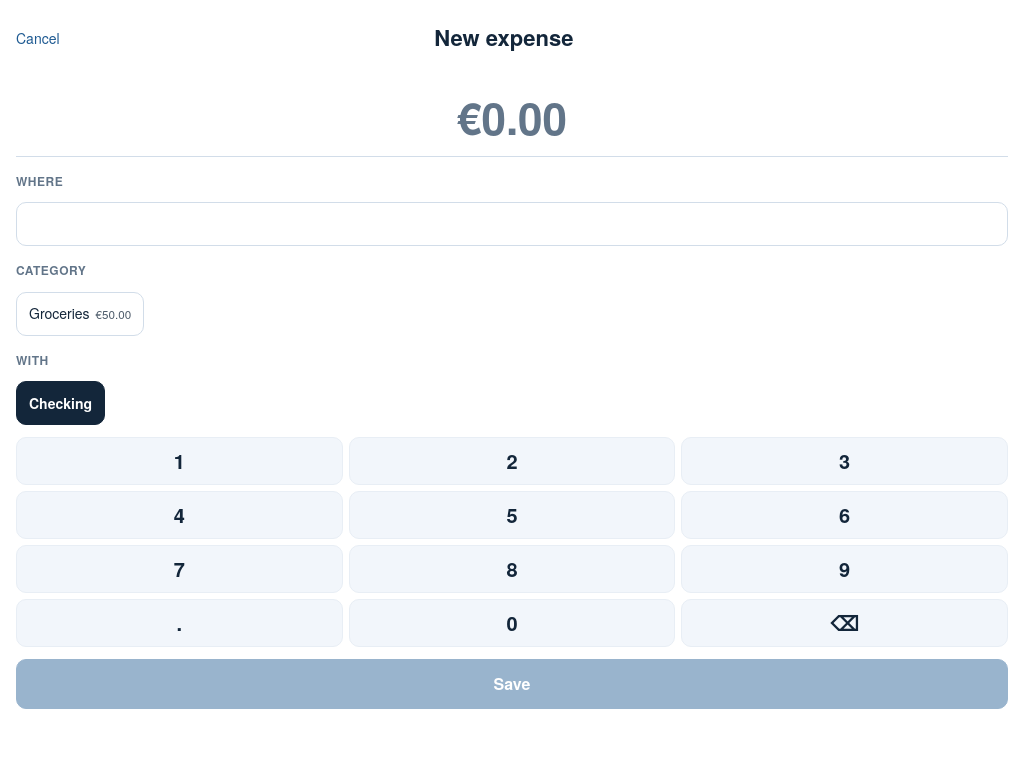
Test: QuickEntryOverlay (#367) › records an expense in three taps: amount, category, save
Check: the heading "New expense" is shown, box [434, 22, 573, 54]
Step 1. Click the button "1" → (179, 461), box [16, 437, 343, 485]
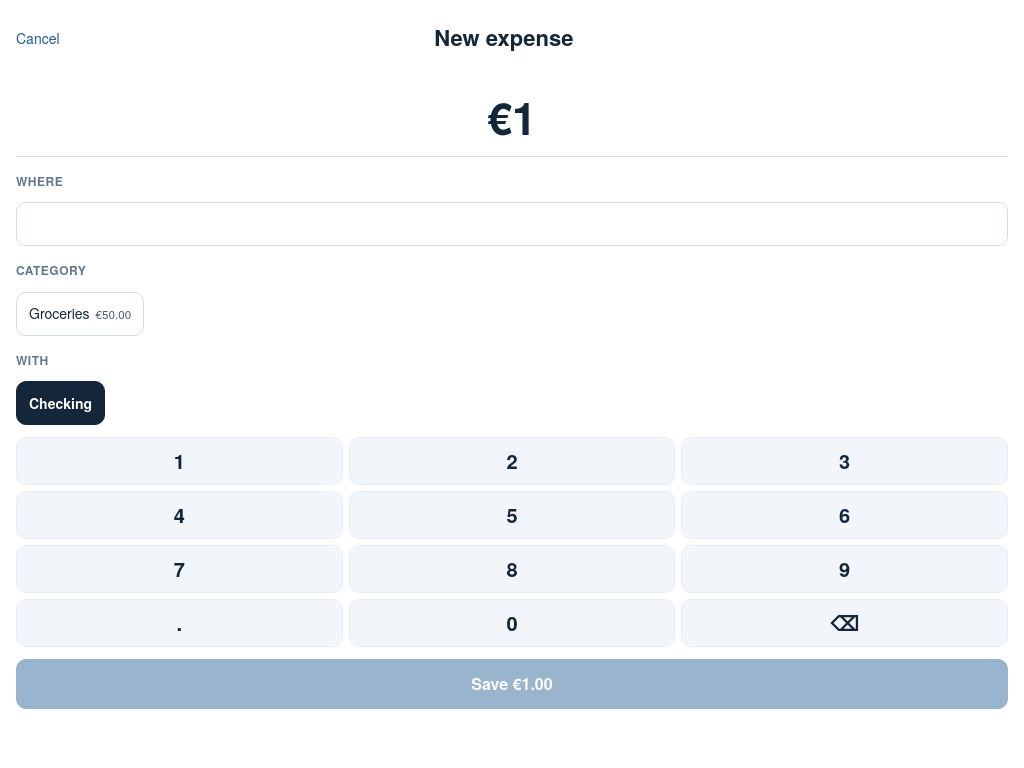
Step 2. Click the button "2" → (512, 461), box [349, 437, 675, 485]
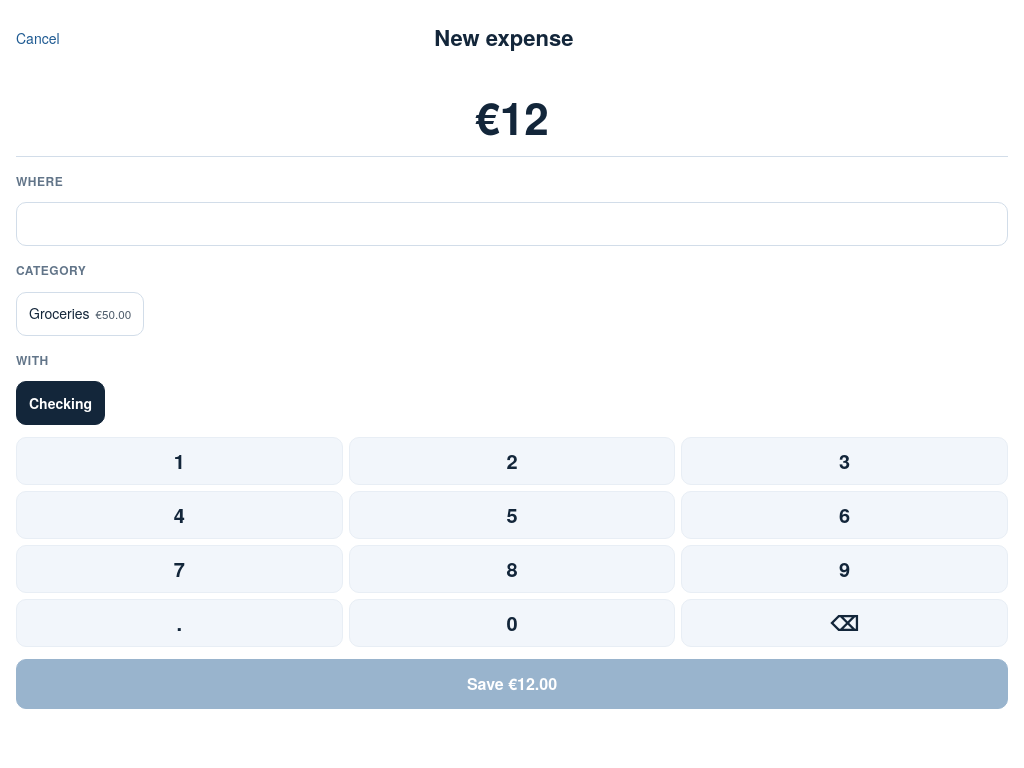
Step 3. Click the button "Groceries€50.00" → (80, 314), box [16, 292, 144, 336]
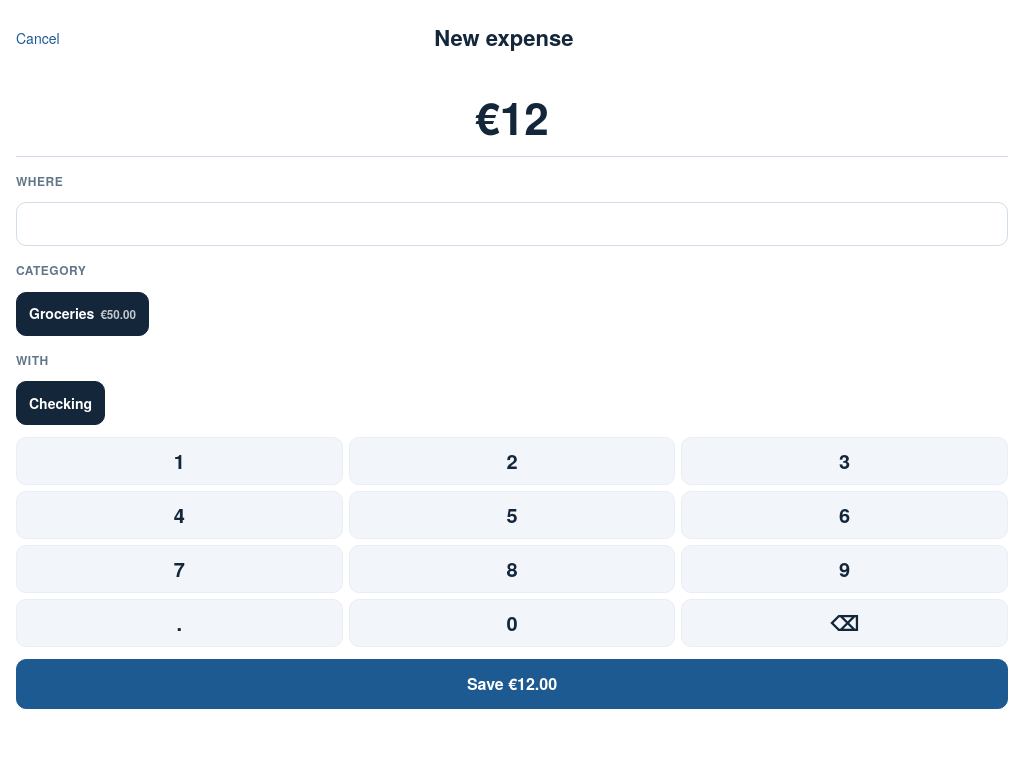
Step 4. Click the button "Save €12.00" → (512, 684), box [16, 659, 1008, 709]
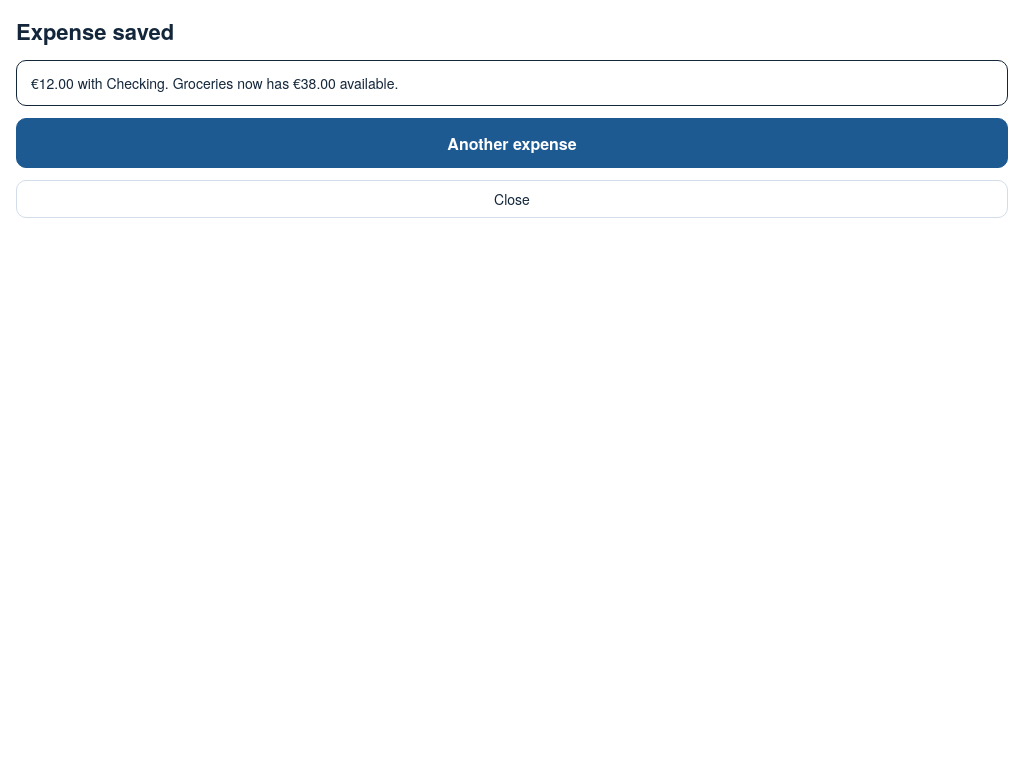
Check: the heading "Expense saved" is shown, box [16, 16, 174, 48]
Check: the text with class "toast" reads "€12.00 with Checking. Groceries now has €38.00 available.", box [16, 60, 1008, 106]
